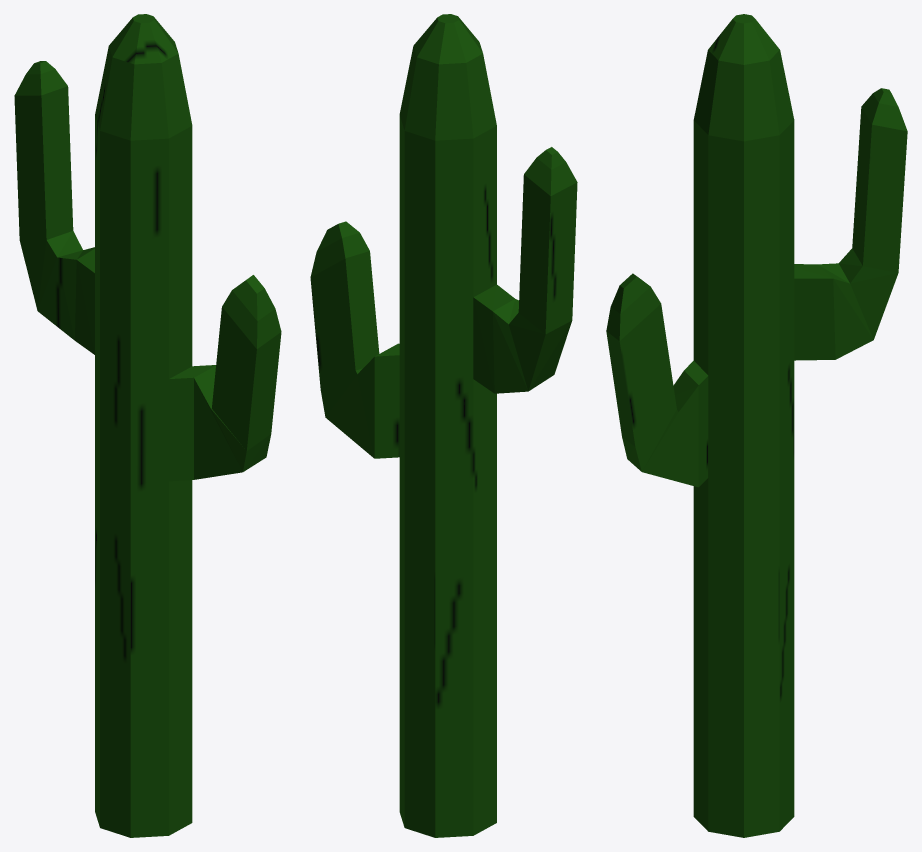
File: cactus.obj
3 views of the same model, side by side, from view 1: azimuth 30°, elevation 25°; view 2: azimuth 210°, elevation 25°; view 3: azimuth 270°, elevation 25° (orthographic).
Visible parts, largest first — view 1: Cylinder; view 2: Cylinder; view 3: Cylinder.
Boxes of the visible parts, bbox=[...] form: Cylinder: bbox=[14, 14, 281, 837]; Cylinder: bbox=[310, 14, 577, 837]; Cylinder: bbox=[606, 14, 907, 837].
Bounding box in the file's own units: 0.7652 × 4.55 × 1.56.
1 material, 1 textured.
